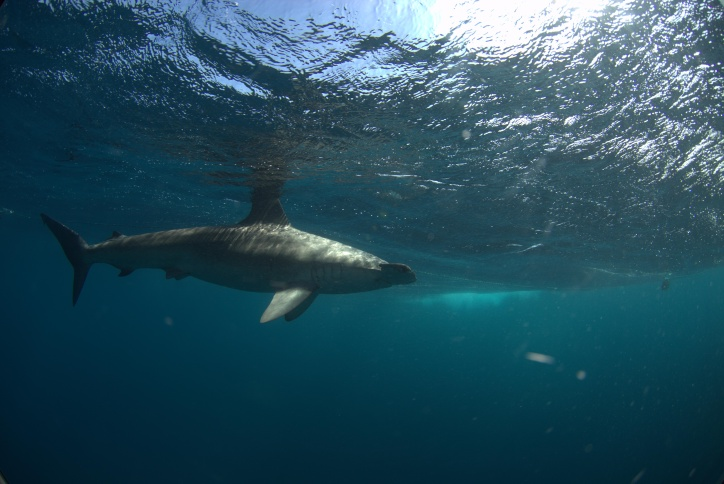Hammer: (23, 144, 424, 365)
